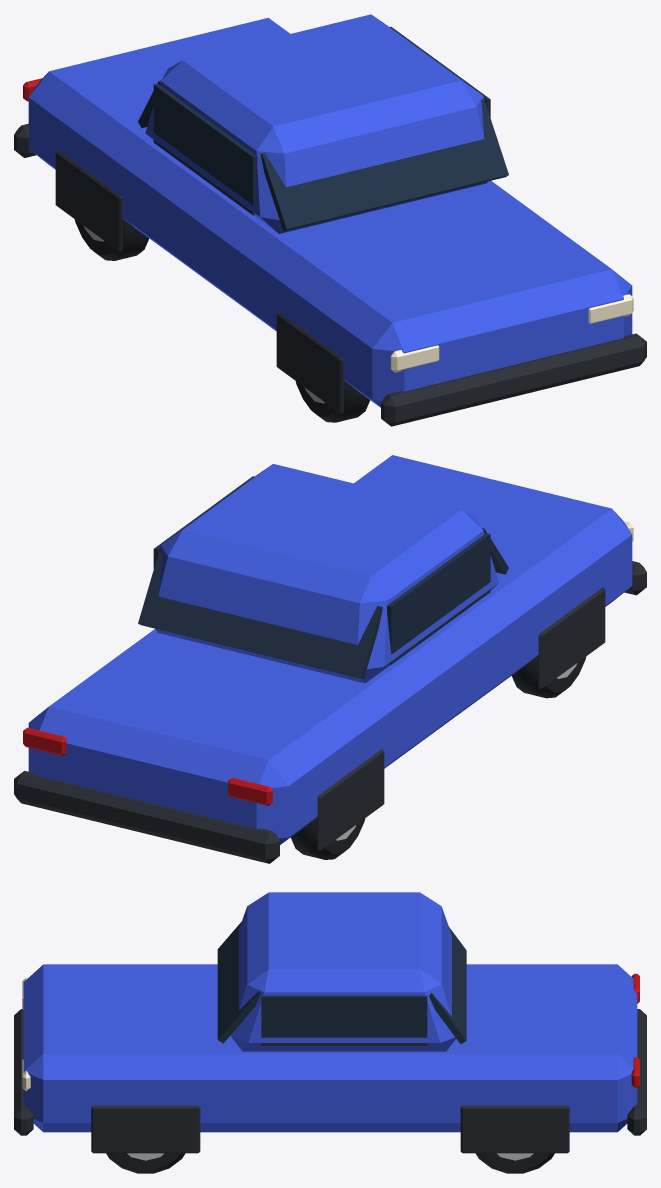
The model's file is car_sedan.glb.
The picture shows the model from 3 angles, top to bottom: view 1: azimuth 30°, elevation 25°; view 2: azimuth 150°, elevation 25°; view 3: azimuth 270°, elevation 25°; orthographic projection. The views are drawn at different scales.
Parts seen in each view (by area): view 1: body, wheel_RR, wheel_FR; view 2: body, wheel_RR, wheel_FR; view 3: body, wheel_FL, wheel_RL.
Part boxes in pixels (left/top/right/bottom): body: left=14, top=14, right=646, bottom=426; wheel_RR: left=74, top=218, right=149, bottom=260; wheel_FR: left=295, top=380, right=370, bottom=422; body: left=14, top=455, right=646, bottom=863; wheel_RR: left=291, top=817, right=365, bottom=859; wheel_FR: left=512, top=656, right=586, bottom=698; body: left=14, top=892, right=646, bottom=1153; wheel_FL: left=106, top=1153, right=185, bottom=1173; wheel_RL: left=475, top=1153, right=554, bottom=1173.
Size of the model in its own units: 1.84 by 1.53 by 4.54.
